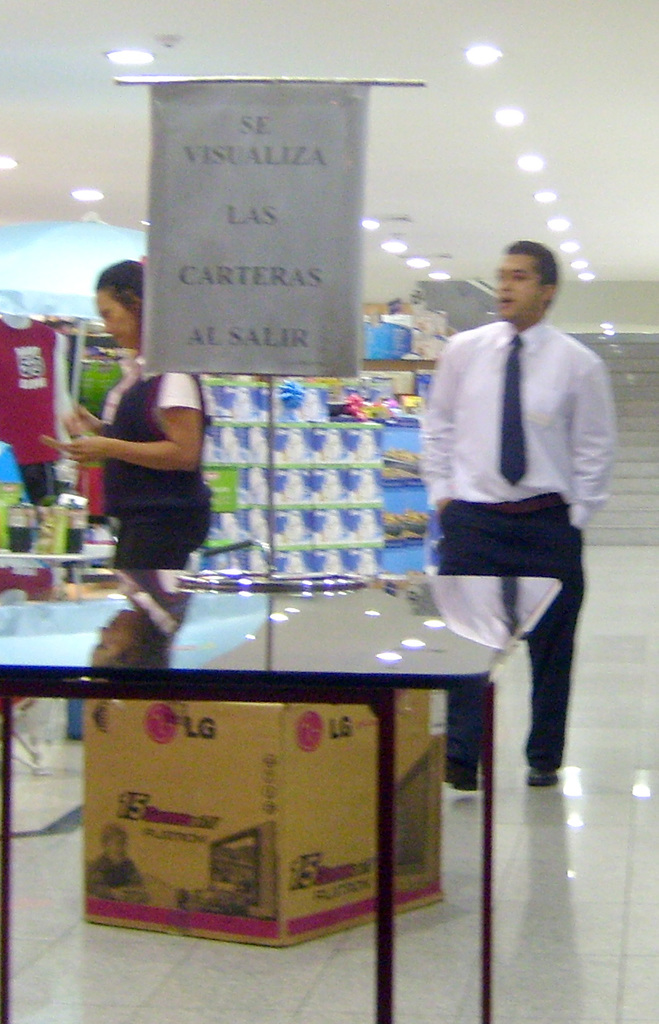Footwear: (443, 749, 476, 788), (527, 764, 559, 785)
